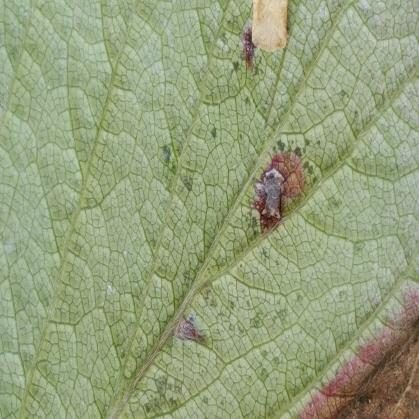Angular Leafspot: (105, 5, 418, 418)
